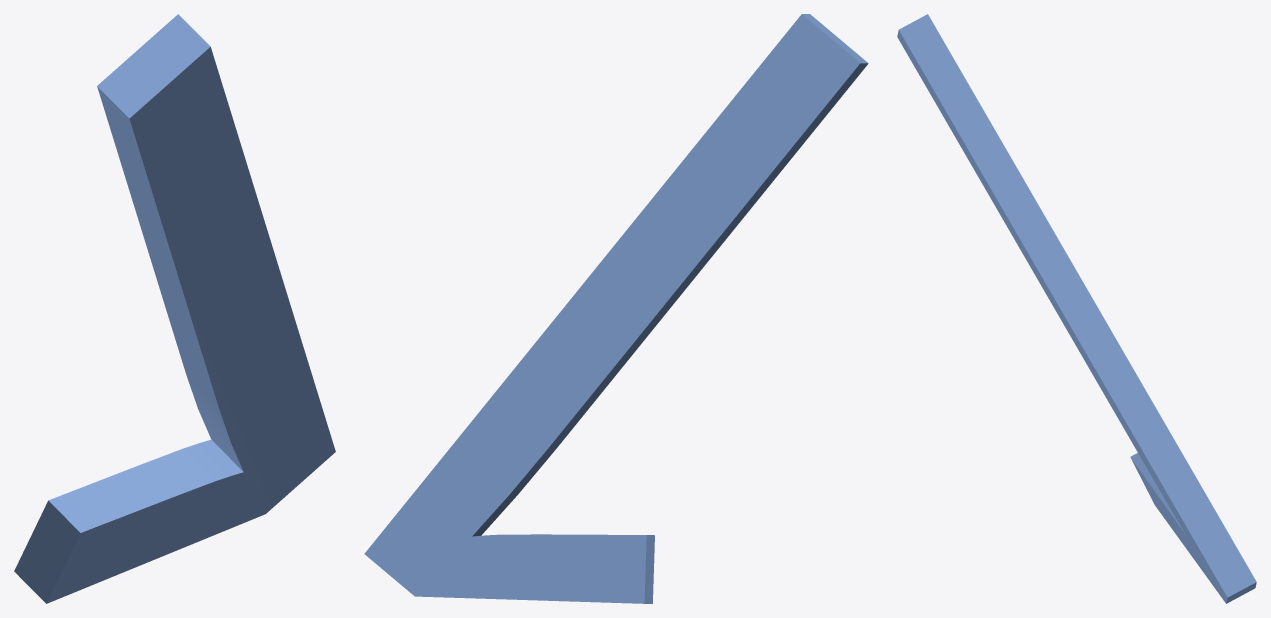
File: New_Number_1.gltf
3 renders of one model, left to right at view 1: azimuth 30°, elevation 25°; view 2: azimuth 150°, elevation 25°; view 3: azimuth 270°, elevation 25°, orthographic. The views are drawn at different scales.
Visible parts, largest first — view 1: Part 559; view 2: Part 559; view 3: Part 559.
Boxes of the visible parts, left/top/right/bottom form: Part 559: left=14, top=14, right=335, bottom=603; Part 559: left=364, top=14, right=868, bottom=603; Part 559: left=897, top=14, right=1256, bottom=603.
Size of the model in its own units: 0.00272 by 0.00413 by 0.00275.
